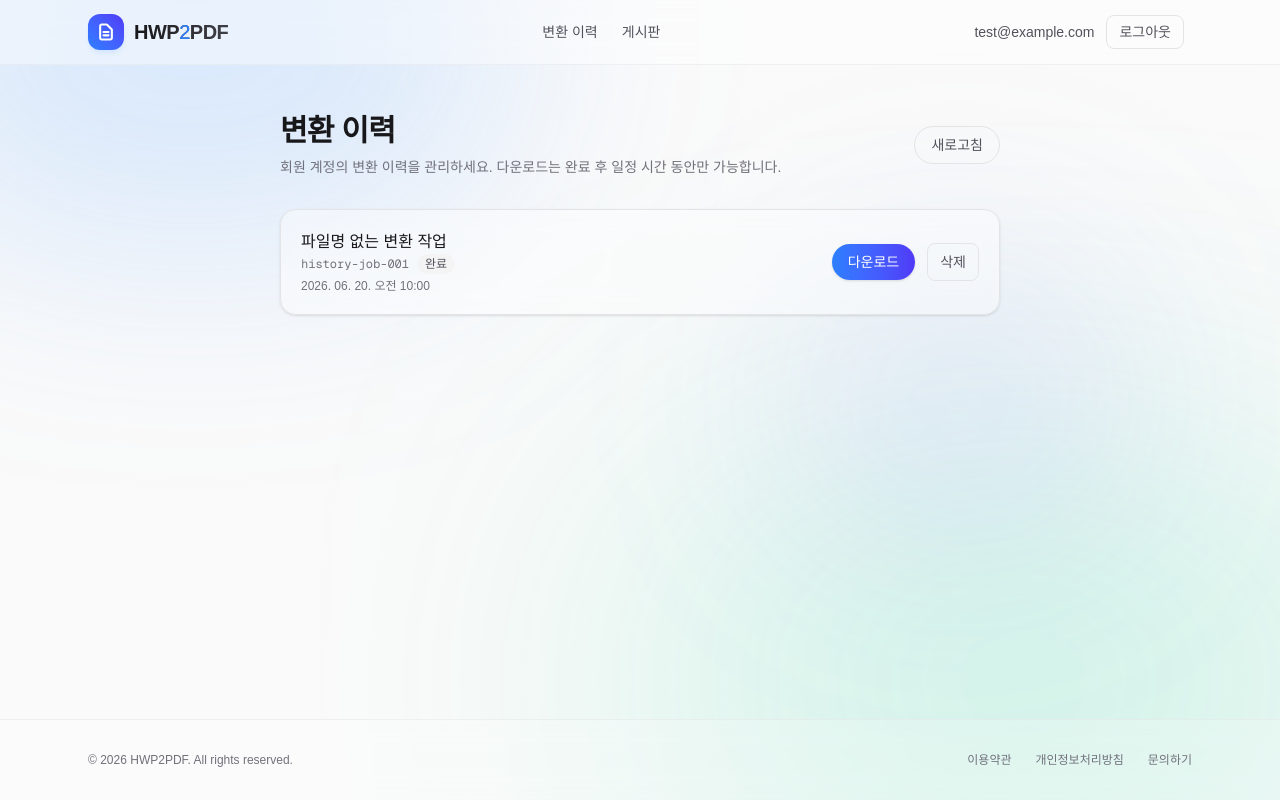
Test case: HistoryPage › shows safe deterministic error text when download returns HTTP 401
Expected: the text "history-job-001" is shown, [301,256,409,272]
Click the button with test id "download-button-history-job-001". click: [873, 262]
box: [832,244,915,280]
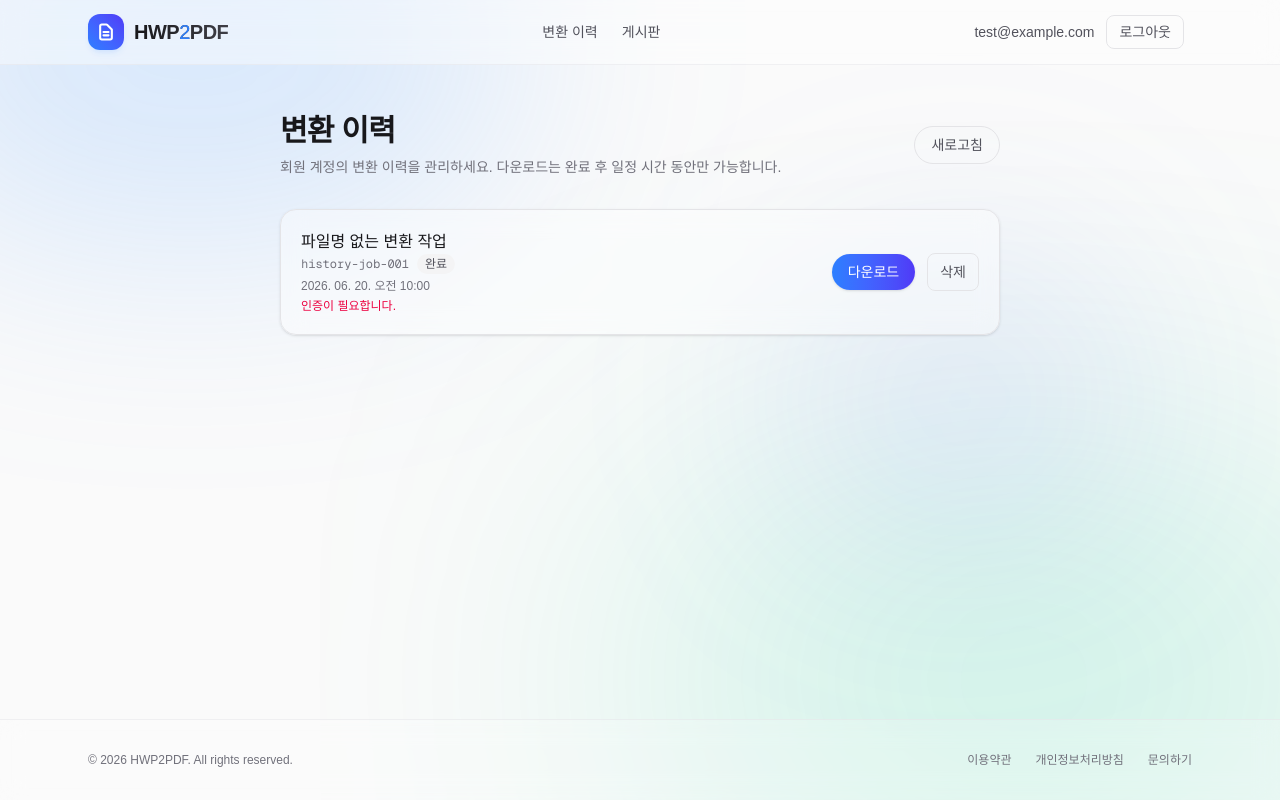
Result: the message with test id "download-error-history-job-001" reads "인증이 필요합니다." at [301,299,396,313]
